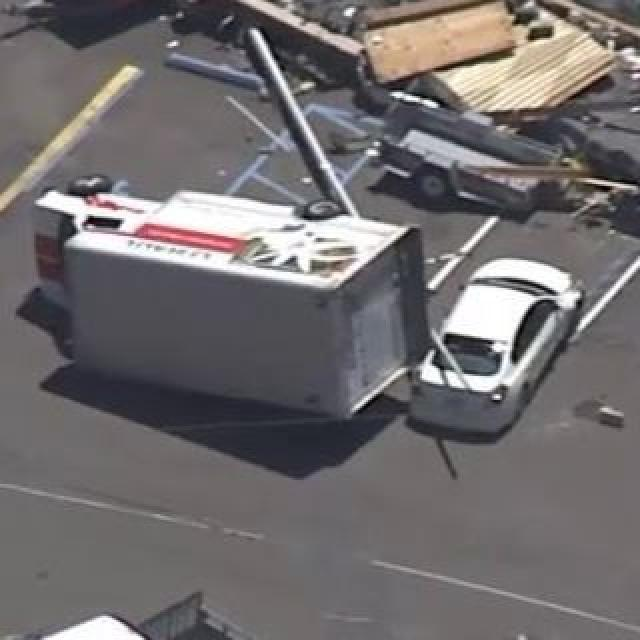traffic_incident: (22, 176, 430, 426)
